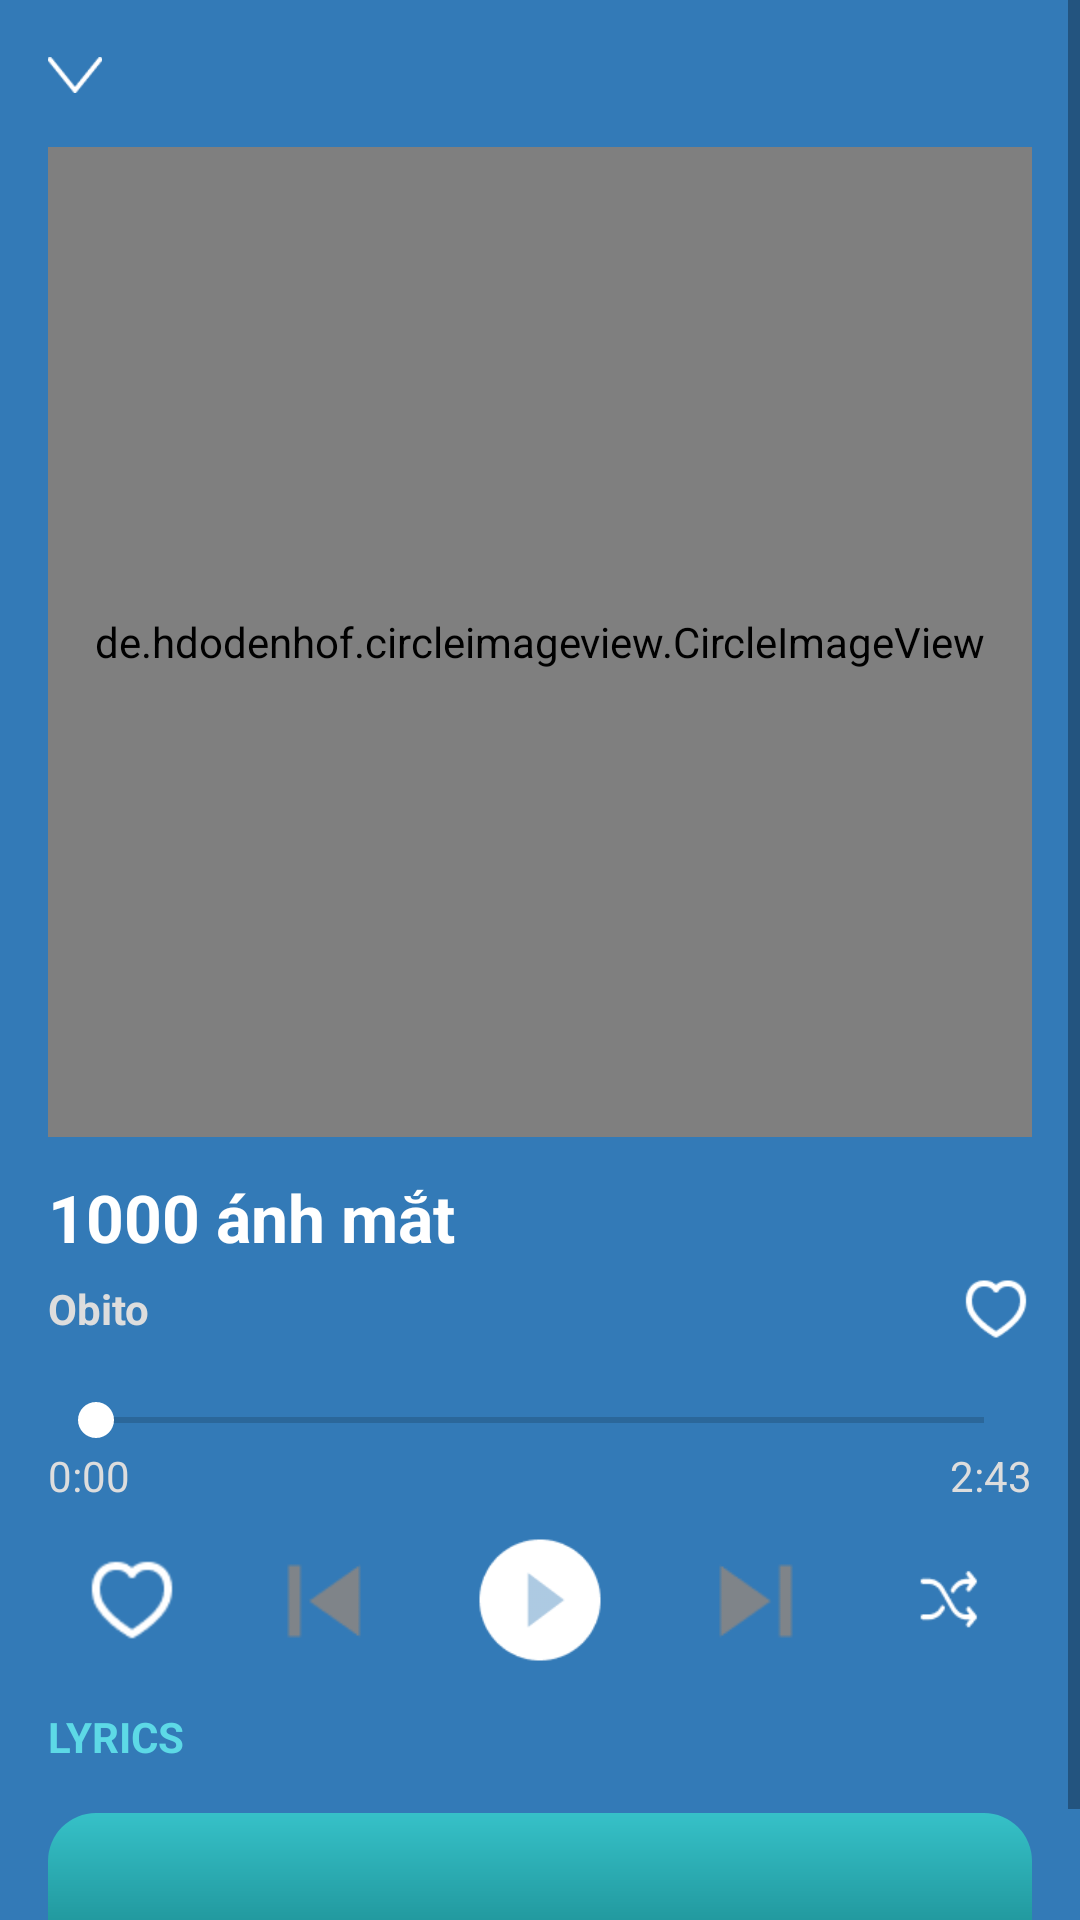

Where to tap for icons on this 1080×1920 app screen, as (x,y):
backpre: (324,1601)
down: (75,75)
heart: (996,1309), (132,1600)
nextpre: (756,1601)
play: (540,1600)
shuffle: (948,1599)
